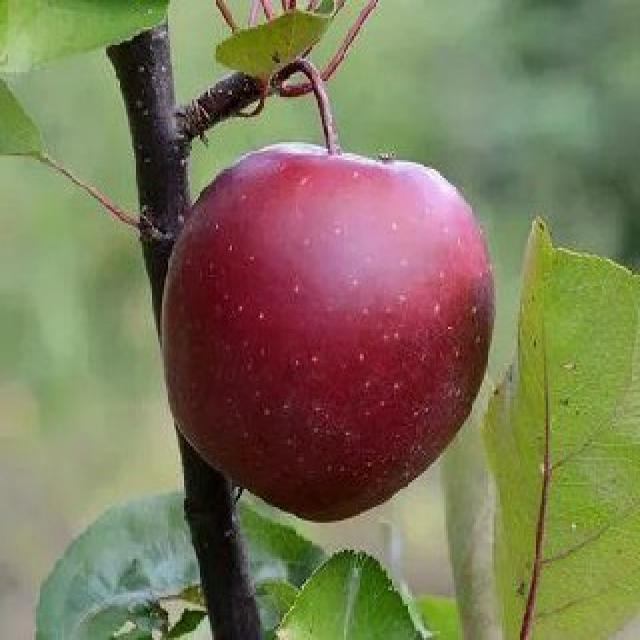Fresh Apple: (177, 135, 488, 523)
